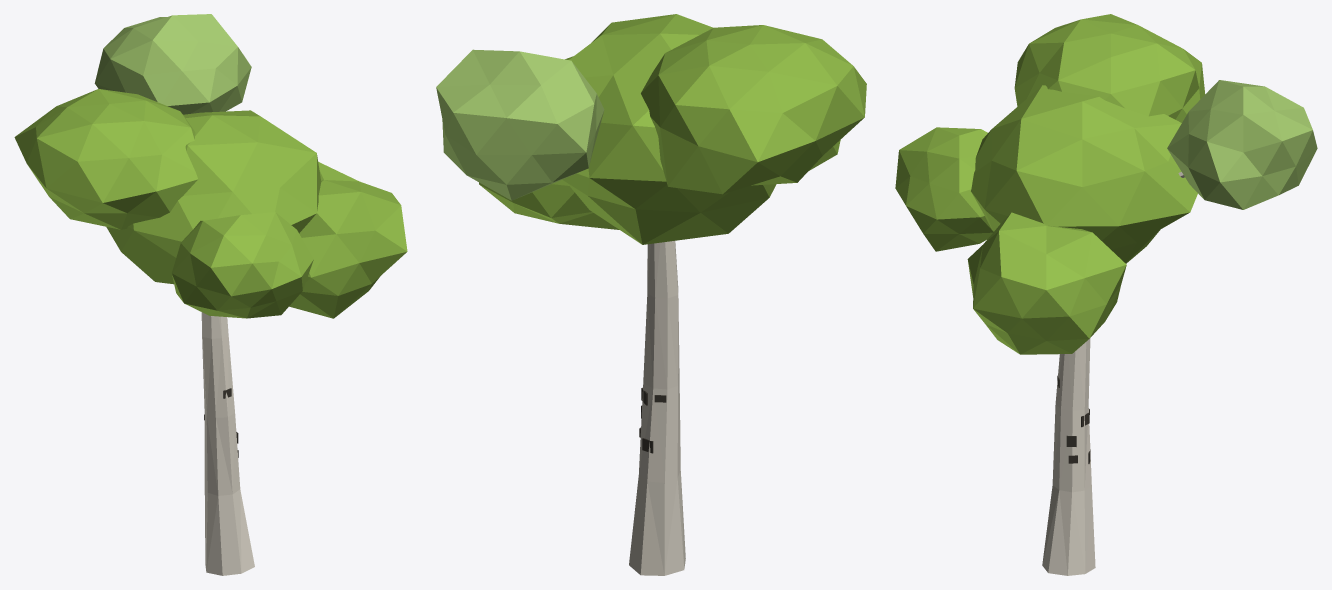
The model's file is HS_LP_Tree_SilverBirch_01.fbx.
The picture shows the model from 3 angles, left to right: view 1: azimuth 30°, elevation 25°; view 2: azimuth 150°, elevation 25°; view 3: azimuth 270°, elevation 25°; orthographic projection. The views are drawn at different scales.
Visible parts, largest first — view 1: HS_LP_Tree_SilverBirch_01; view 2: HS_LP_Tree_SilverBirch_01; view 3: HS_LP_Tree_SilverBirch_01.
Part boxes in pixels (x1,y1,x2,y2): HS_LP_Tree_SilverBirch_01: (14,14,407,575); HS_LP_Tree_SilverBirch_01: (436,14,866,575); HS_LP_Tree_SilverBirch_01: (895,14,1317,575).
Size of the model in its own units: 387 by 540 by 417.
